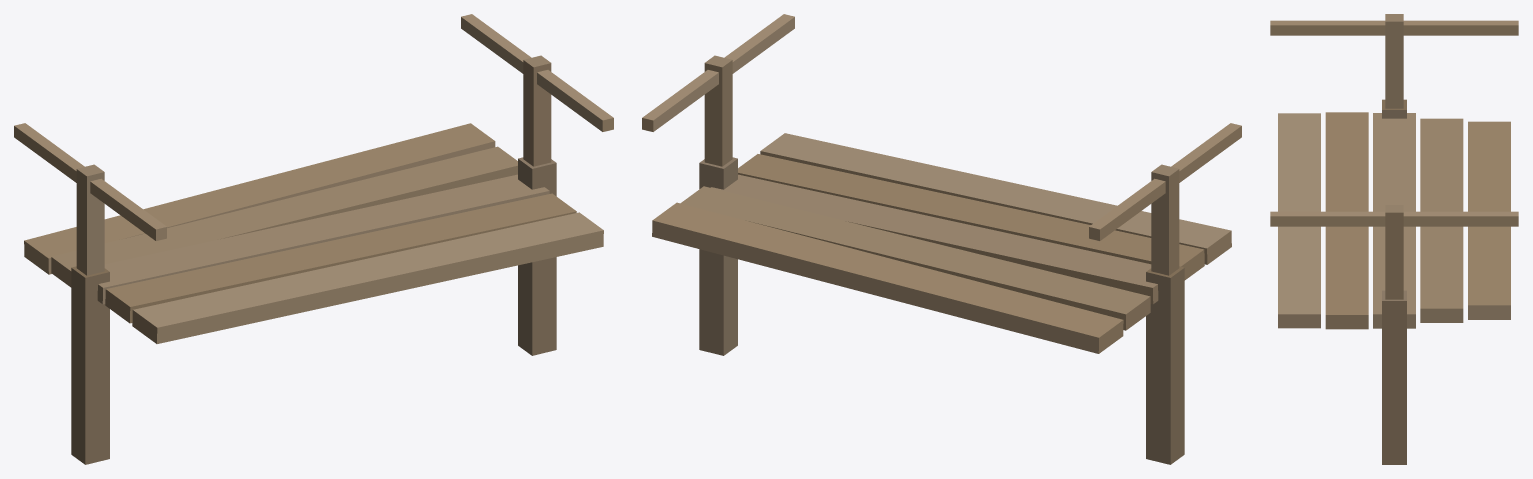
File: bridge_segment.glb
The picture shows the model from 3 angles, left to right: view 1: azimuth 30°, elevation 25°; view 2: azimuth 150°, elevation 25°; view 3: azimuth 270°, elevation 25°; orthographic projection. The views are drawn at different scales.
Visible parts, largest first — view 1: bridge_segment2; view 2: bridge_segment2; view 3: bridge_segment2.
Part boxes in pixels (x1,y1,x2,y2): bridge_segment2: [14, 14, 613, 464]; bridge_segment2: [642, 14, 1241, 464]; bridge_segment2: [1270, 14, 1518, 464].
Bounding box in the file's own units: 4.22 × 2.45 × 2.2.
